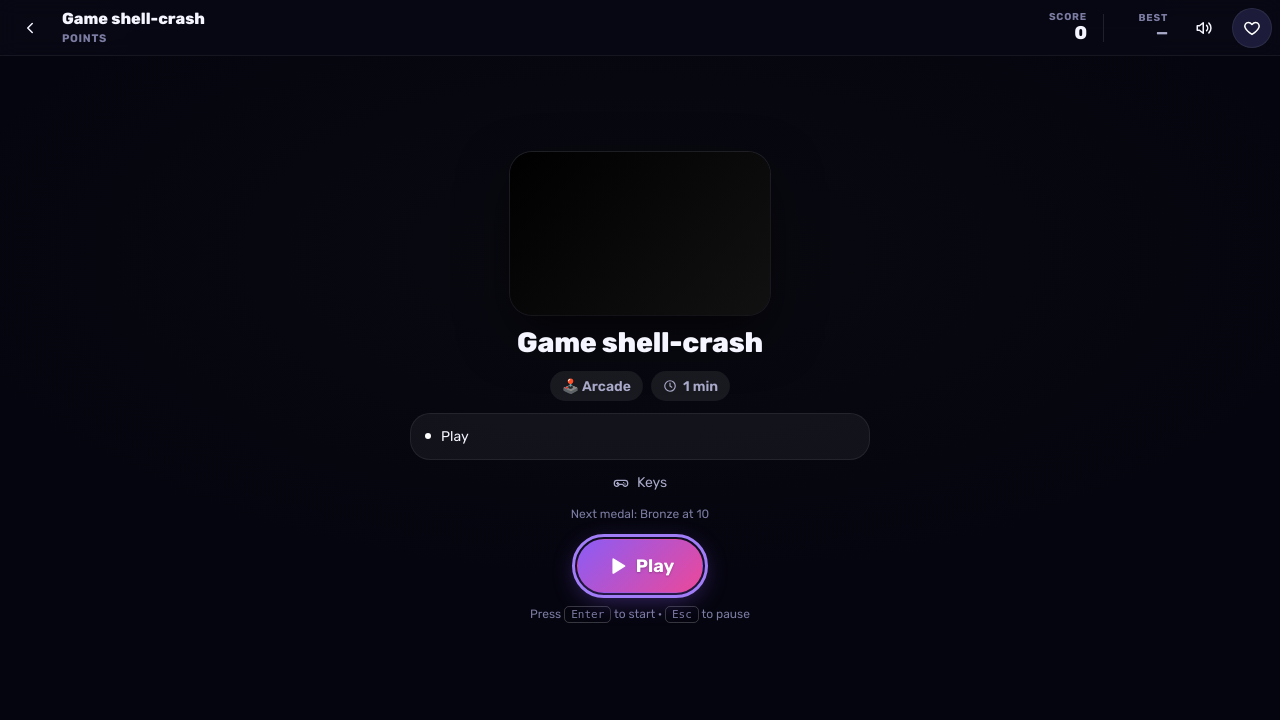
Test case: GameShell › isolates a crashing game and offers recovery
What coordinates should you click on to do the following:
click the button with test id "play-button"
I would click on:
 (640, 566)
Its box is [577,539,703,593].
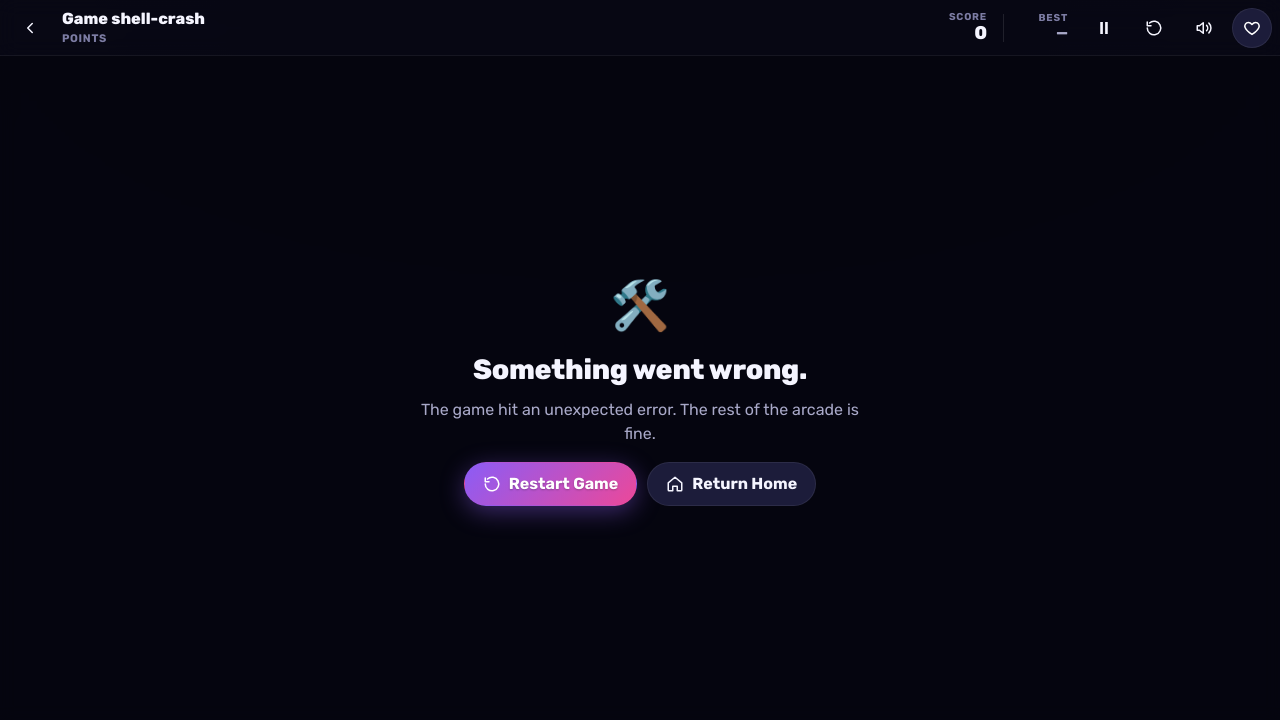
Check: the heading "Something went wrong." is shown, box [473,354,807,386]
Check: the button "Restart Game" is shown, box [464,462,637,506]
Check: the button "Return Home" is shown, box [647,462,816,506]
